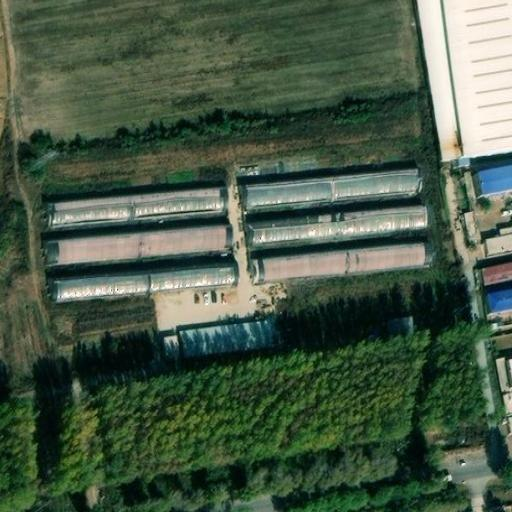building: (418, 0, 512, 158), (44, 184, 229, 228), (42, 220, 234, 262), (238, 165, 425, 208), (245, 202, 428, 243), (251, 238, 435, 278), (46, 260, 236, 296), (163, 319, 281, 363), (463, 333, 498, 413), (477, 162, 512, 195), (484, 222, 512, 256), (480, 262, 512, 286), (458, 207, 478, 241), (385, 316, 412, 340), (484, 290, 512, 313), (496, 357, 512, 393), (488, 327, 512, 349)
